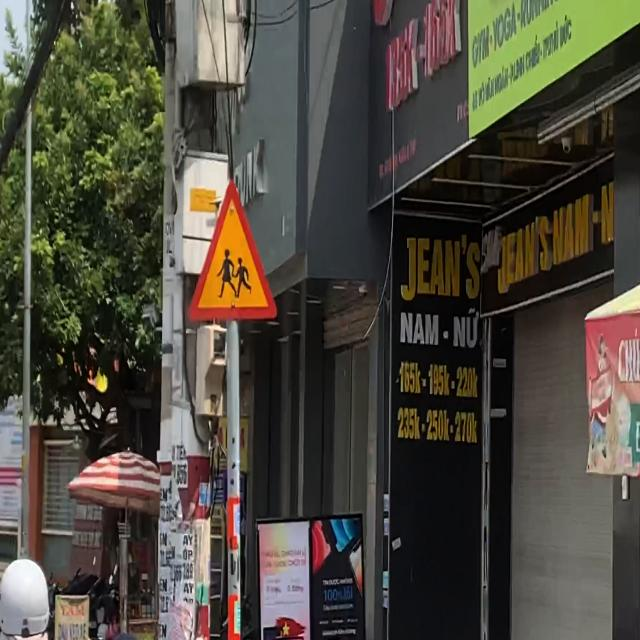Nguy hiem: (185, 177, 279, 322)
